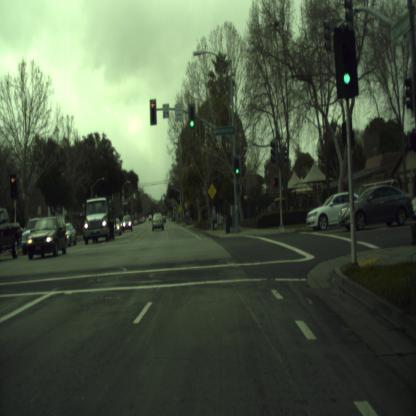Green: (338, 29, 354, 94), (187, 104, 196, 128), (233, 154, 241, 176), (163, 192, 165, 200), (175, 204, 176, 210)
RedLeft: (149, 99, 156, 124), (10, 174, 16, 198)
